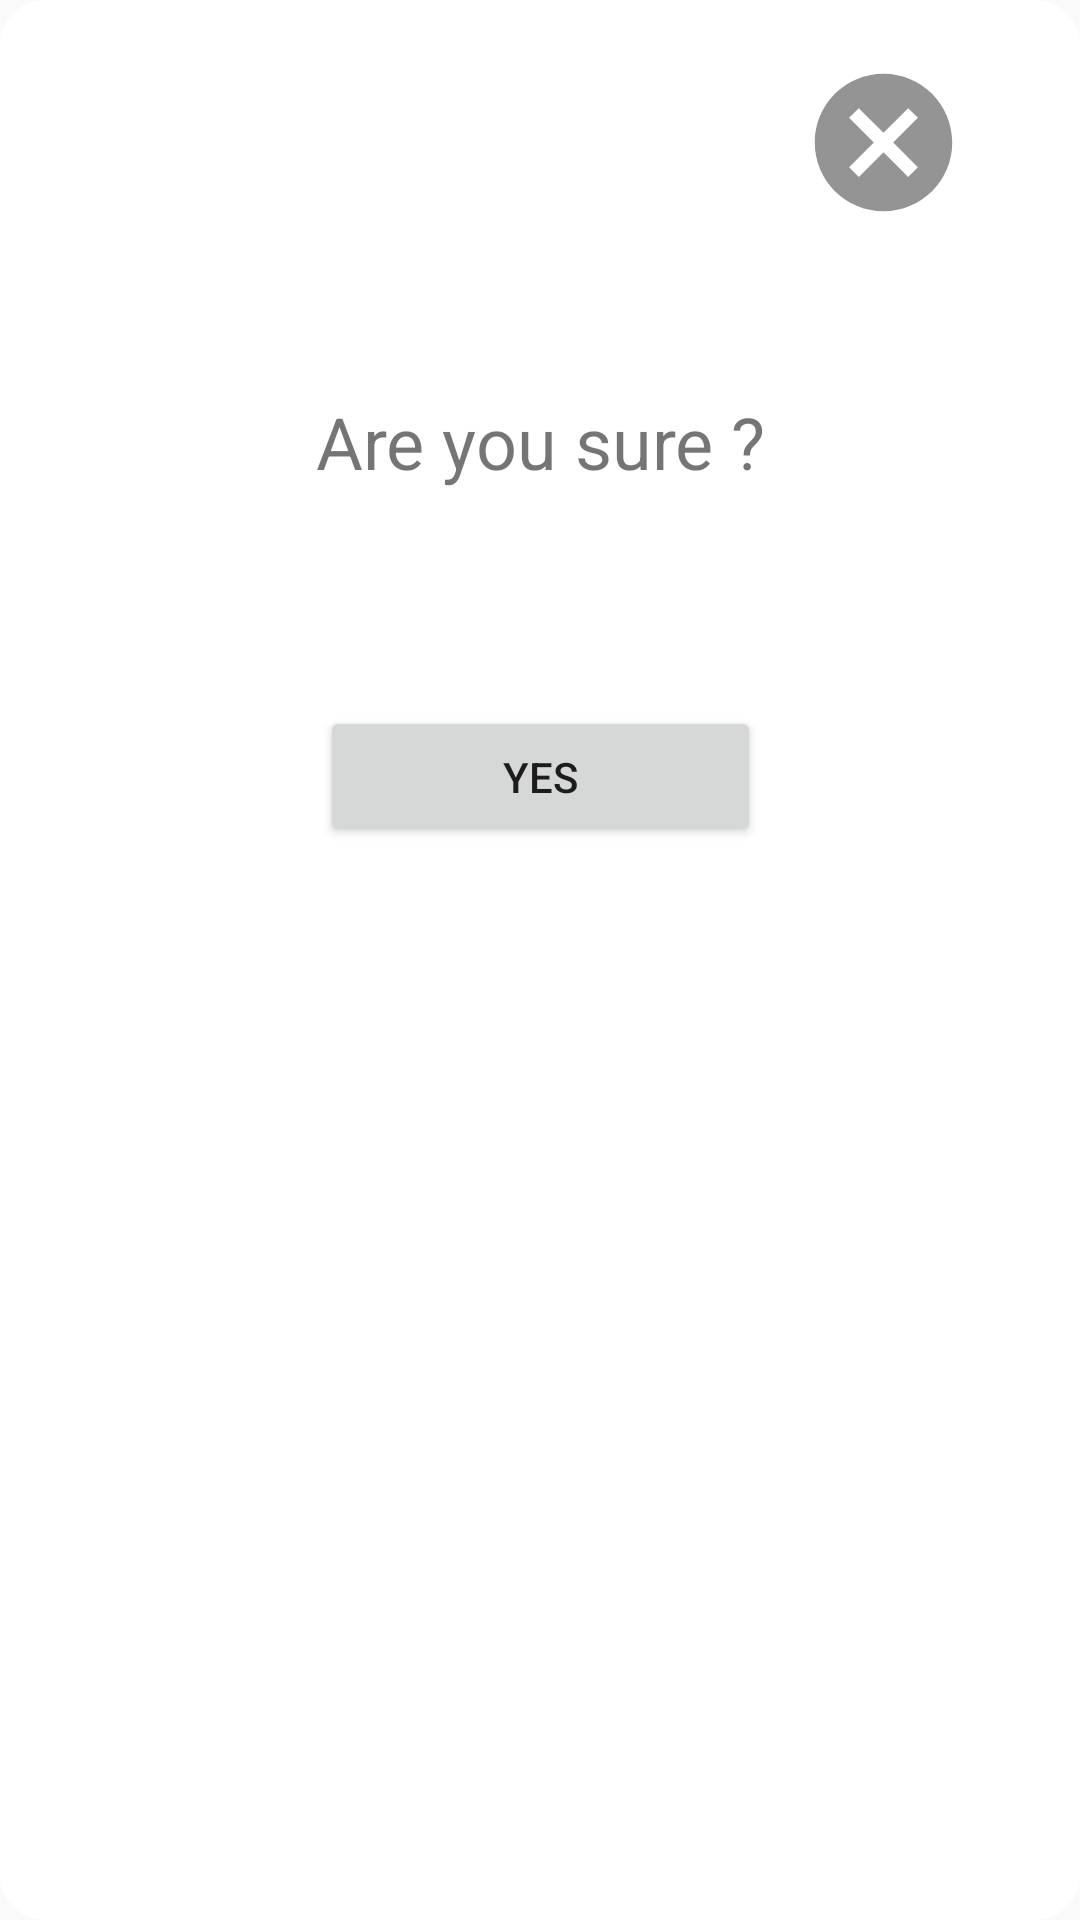

Icon bounding boxes for this 1080 x 1920 phone screenshot, format (x1, y1, x2, y2):
cancel: (814, 73, 953, 212)
